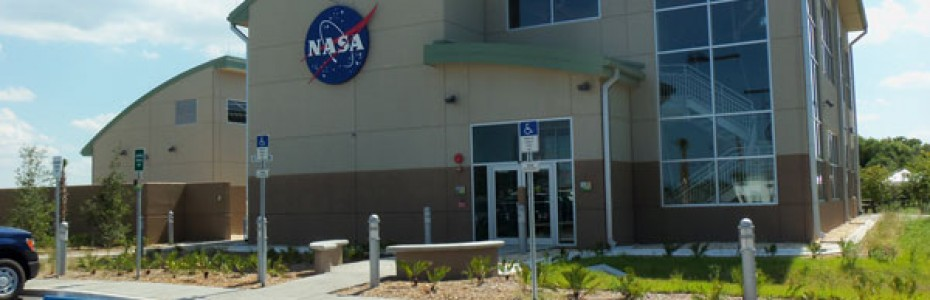NASA: (299, 1, 378, 85)
